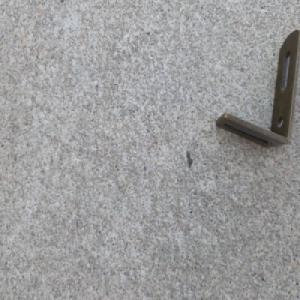MetalPart: (214, 28, 300, 150)
